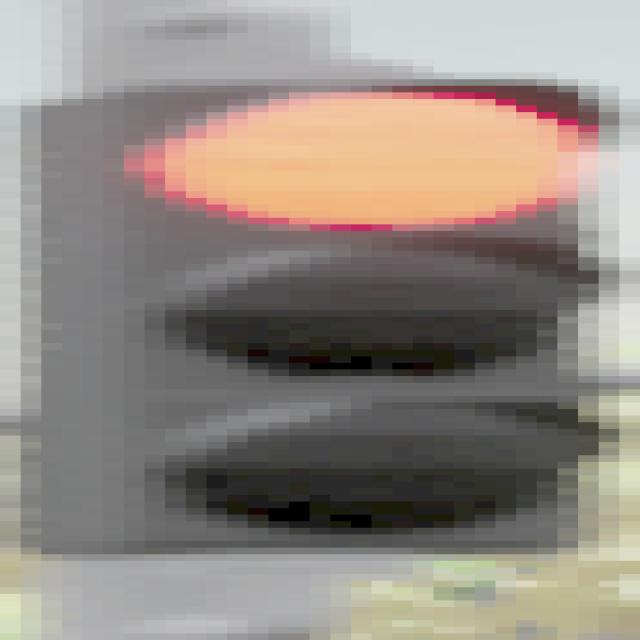red_light: (8, 82, 640, 564)
